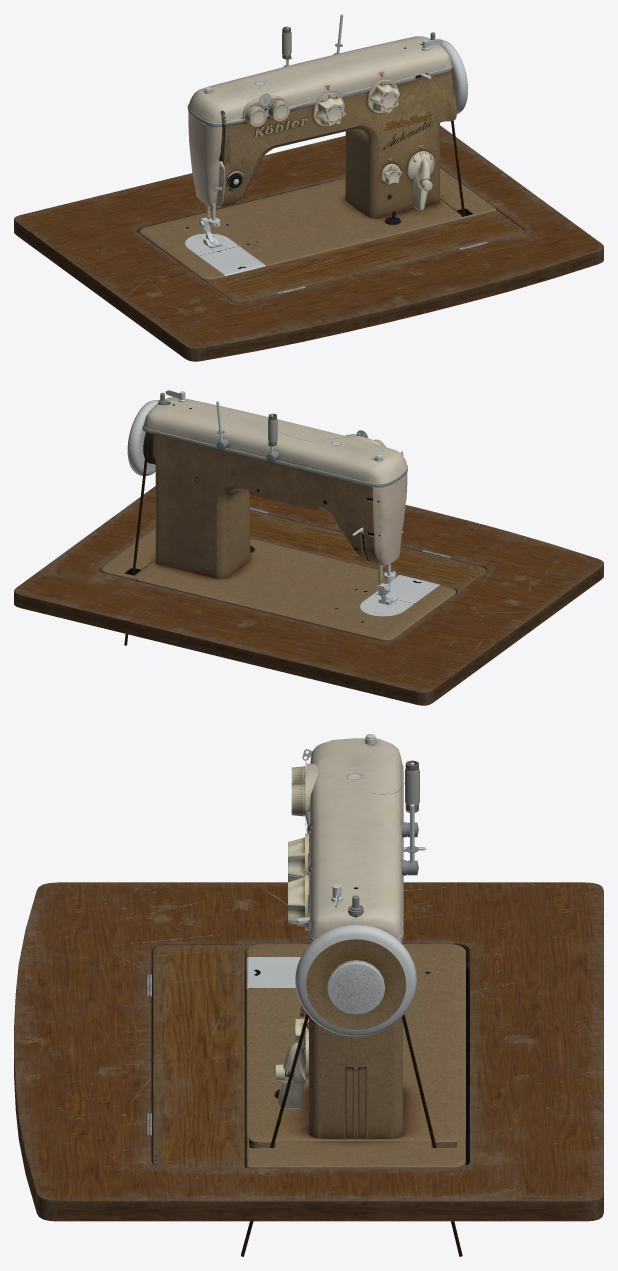
3 views of the same model, one above another, from view 1: azimuth 30°, elevation 25°; view 2: azimuth 150°, elevation 25°; view 3: azimuth 270°, elevation 25° (orthographic). The views are drawn at different scales.
Parts seen in each view (by area): view 1: table_no_bake_table_0, Object047_machine_body_0, Object074_machine_body_0, Object048_machine_details_0, Object077_machine_details_0; view 2: table_no_bake_table_0, Object047_machine_body_0, Object074_machine_body_0, Object048_machine_details_0, Shape004_machine_details_0; view 3: table_no_bake_table_0, Object047_machine_body_0, Object074_machine_body_0, Object048_machine_details_0, Object077_machine_details_0, Shape004_machine_details_0, Cylinder062.
Boxes of the visible parts, x1=… form: table_no_bake_table_0: x1=14, y1=125, x2=603, y2=361; Object047_machine_body_0: x1=187, y1=36, x2=467, y2=218; Object074_machine_body_0: x1=139, y1=168, x2=496, y2=279; Object048_machine_details_0: x1=199, y1=14, x2=442, y2=248; Object077_machine_details_0: x1=407, y1=151, x2=434, y2=211; table_no_bake_table_0: x1=14, y1=486, x2=603, y2=705; Object047_machine_body_0: x1=127, y1=397, x2=407, y2=578; Object074_machine_body_0: x1=101, y1=528, x2=455, y2=641; Object048_machine_details_0: x1=158, y1=390, x2=403, y2=605; Shape004_machine_details_0: x1=124, y1=433, x2=150, y2=645; table_no_bake_table_0: x1=14, y1=882, x2=603, y2=1221; Object047_machine_body_0: x1=295, y1=738, x2=416, y2=1139; Object074_machine_body_0: x1=246, y1=944, x2=465, y2=1167; Object048_machine_details_0: x1=275, y1=734, x2=426, y2=1098; Object077_machine_details_0: x1=274, y1=1030, x2=308, y2=1109; Shape004_machine_details_0: x1=241, y1=1013, x2=462, y2=1256; Cylinder062: x1=303, y1=760, x2=419, y2=833.
Bounding box in the file's own units: 60 × 34.58 × 47.
Materials: 4 (4 with a texture image).
